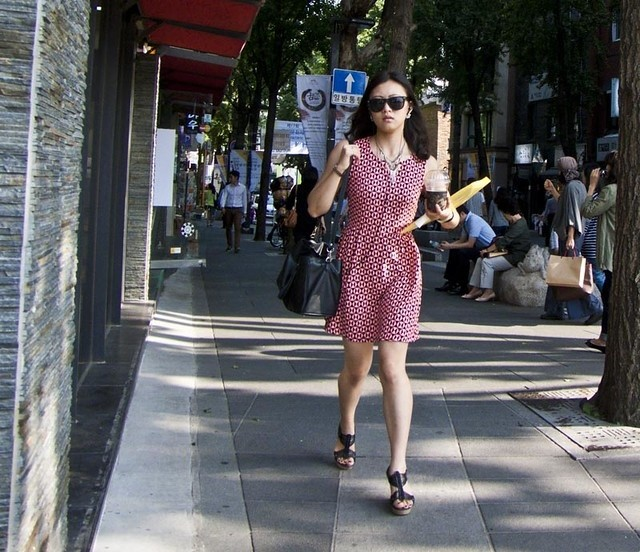face_no_mask: (362, 74, 413, 139)
